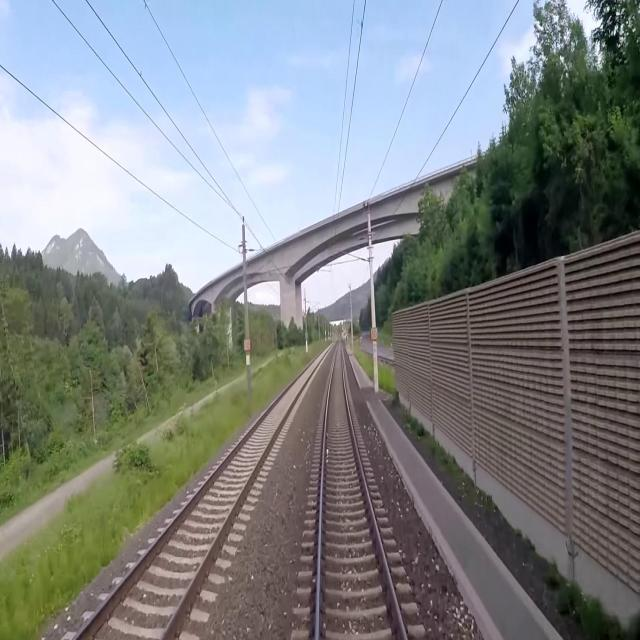rail-track: (78, 360, 317, 639), (320, 347, 403, 639)
